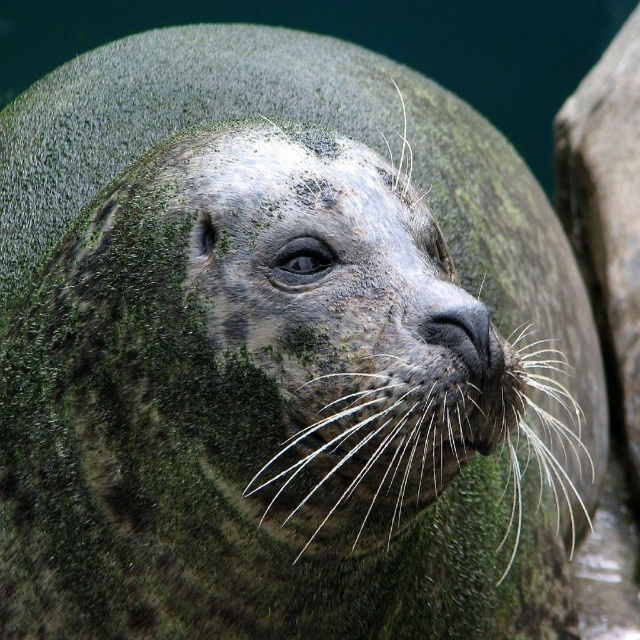Harbor seal: (0, 26, 609, 640)
